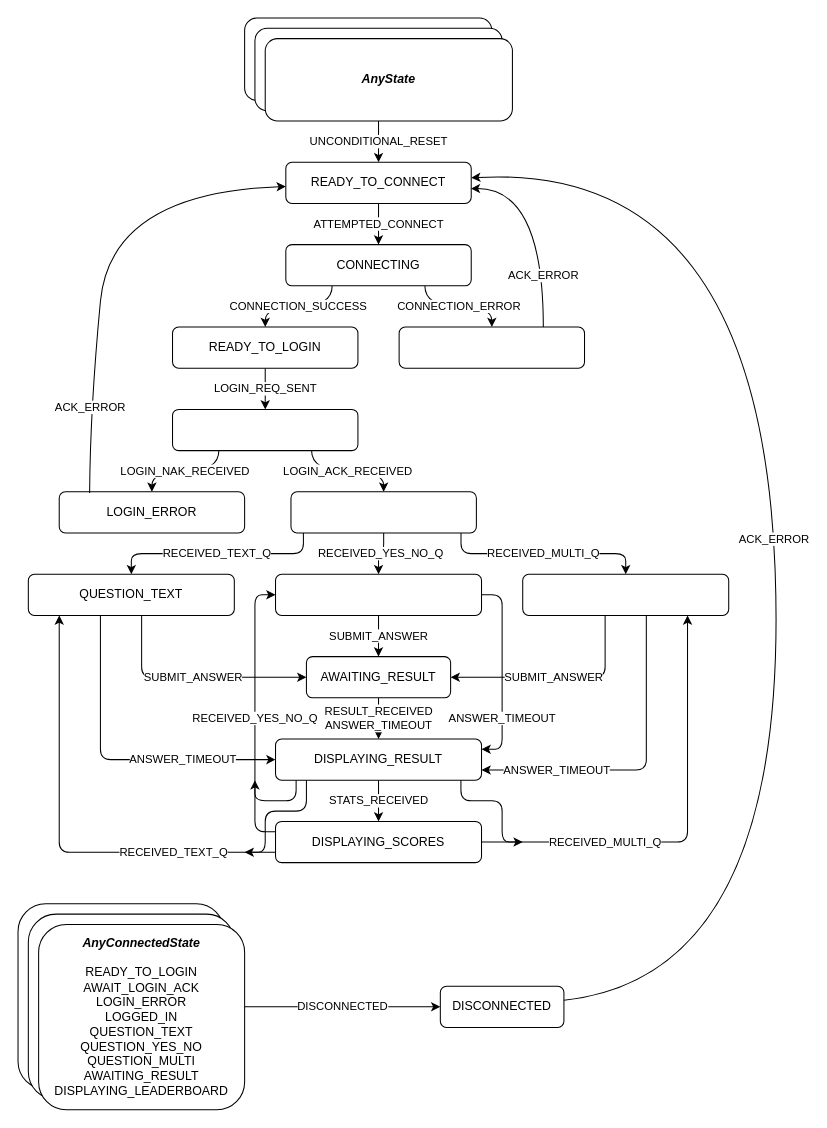
The diagram is 827 pixels wide and 1128 high, and some of its shapes have lost their labels. Here are the shapes that lost their labels. From the top down, the centre of each, then its label:
At [491,347]: "CONNECTION_FAILED".
At [264,429]: "AWAIT_LOGIN_ACK".
At [383,512]: "LOGGED_IN".
At [378,594]: "QUESTION_YES_NO".
At [625,594]: "QUESTION_MULTI".
